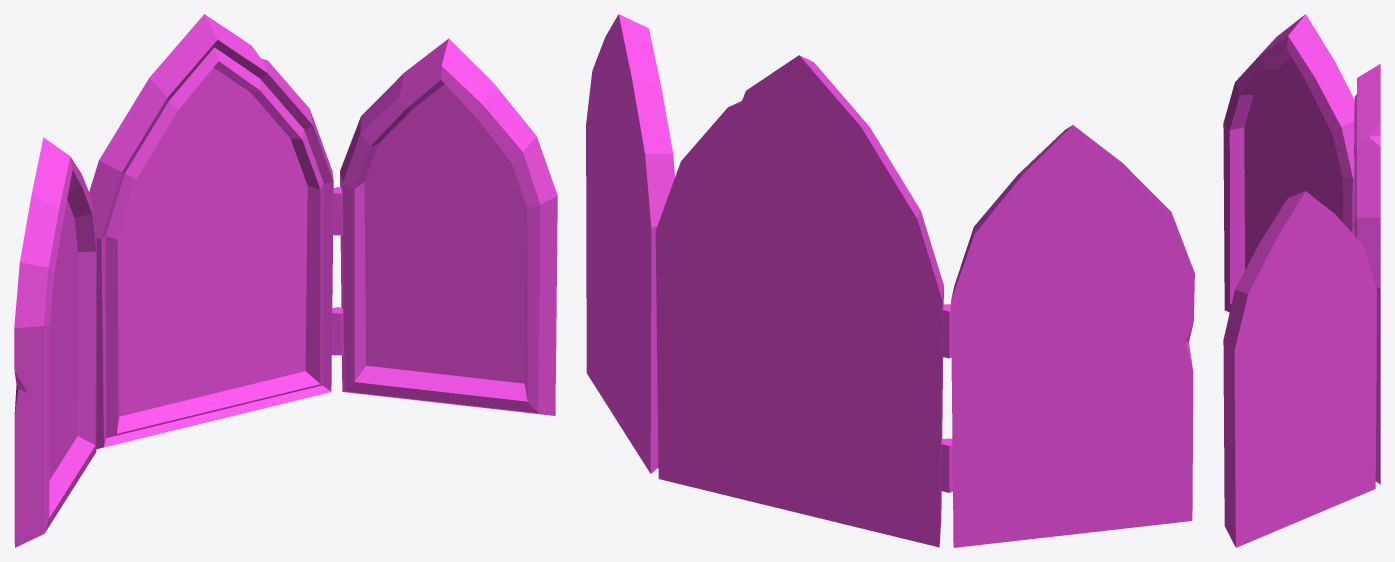
The model's file is SM_Mirror_Table_A_Fantasy.fbx.
3 views of the same model, side by side, from view 1: azimuth 30°, elevation 25°; view 2: azimuth 150°, elevation 25°; view 3: azimuth 270°, elevation 25° (orthographic). The views are drawn at different scales.
Visible parts, largest first — view 1: SM_Mirror_Table_A_Fantasy; view 2: SM_Mirror_Table_A_Fantasy; view 3: SM_Mirror_Table_A_Fantasy.
Part boxes in pixels (x1=…): SM_Mirror_Table_A_Fantasy: x1=14, y1=14, x2=557, y2=547; SM_Mirror_Table_A_Fantasy: x1=586, y1=14, x2=1194, y2=547; SM_Mirror_Table_A_Fantasy: x1=1223, y1=14, x2=1380, y2=547.
Bounding box in the file's own units: 1.26 × 0.9056 × 0.3521.
